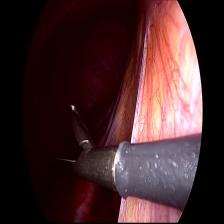Grasper: (55, 92, 114, 202)
